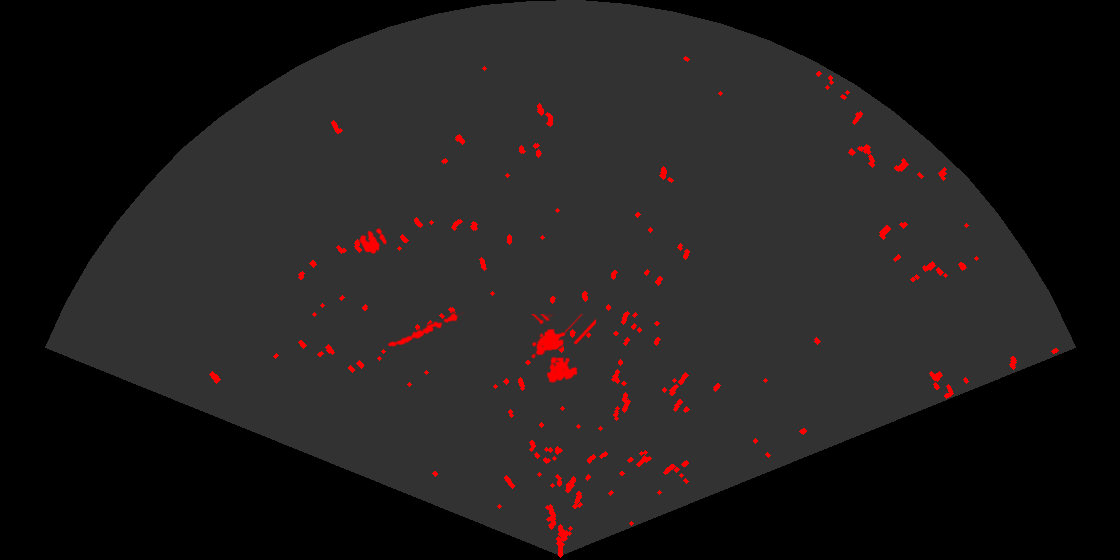ball: (358, 227, 388, 256)
cage: (529, 314, 596, 385)
chain: (386, 310, 464, 348)
